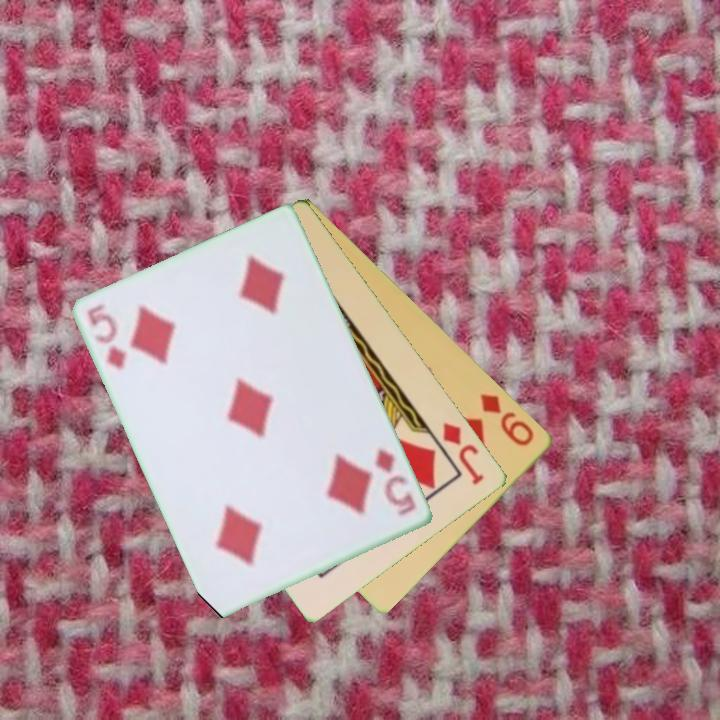5d: (372, 444, 420, 519), (84, 300, 131, 374)
9d: (477, 389, 538, 449)
Jd: (439, 419, 488, 488)
